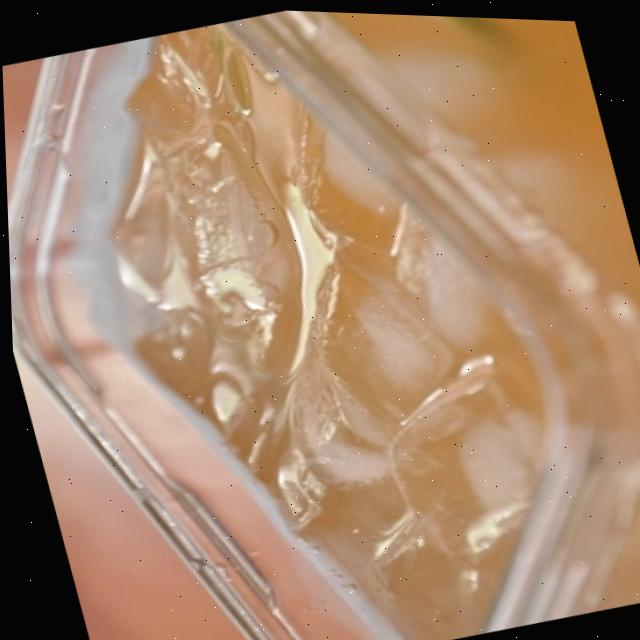蛋糕甜品: (30, 1, 640, 640)
